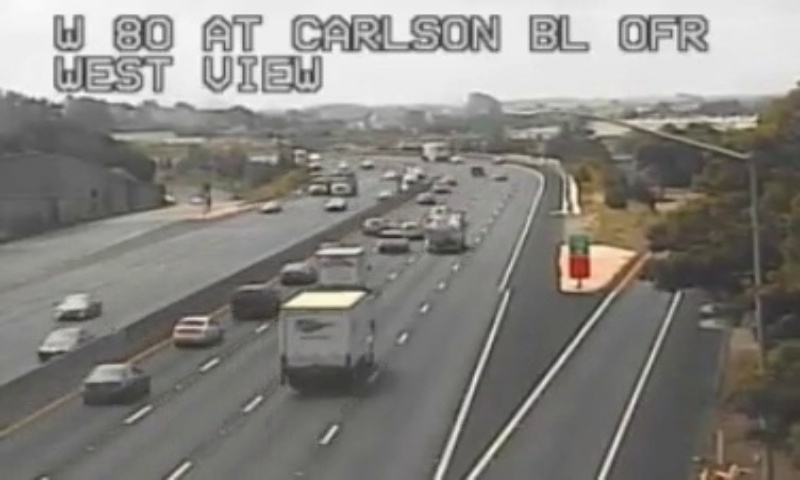car: (80, 364, 148, 404), (231, 283, 278, 317), (170, 315, 219, 346), (280, 263, 314, 285)
small-truck: (276, 290, 374, 382), (317, 247, 363, 285)
